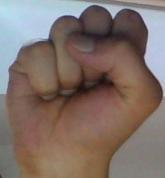S: (0, 2, 165, 158)
